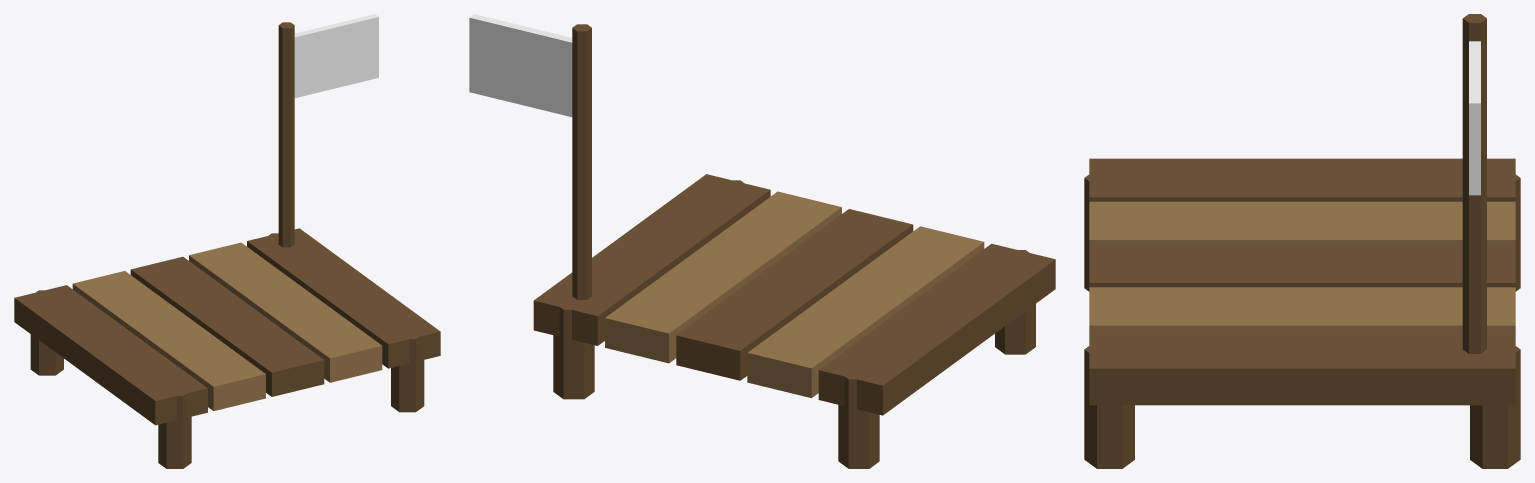
File: port.glb
3 views of the same model, side by side, from view 1: azimuth 30°, elevation 25°; view 2: azimuth 150°, elevation 25°; view 3: azimuth 270°, elevation 25° (orthographic). The views are drawn at different scales.
Visible parts, largest first — view 1: port; view 2: port; view 3: port.
Part boxes in pixels (bbox=[...]): port: bbox=[14, 14, 440, 468]; port: bbox=[469, 14, 1055, 468]; port: bbox=[1084, 14, 1520, 468].
Size of the model in its own units: 0.6 by 0.48 by 0.43.
